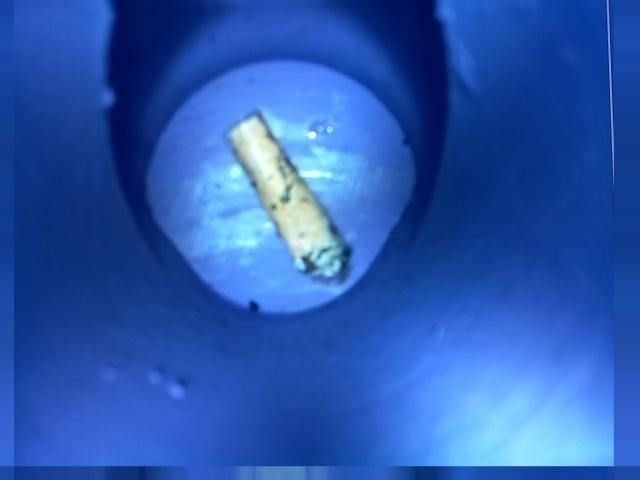megot: (215, 103, 361, 304)
